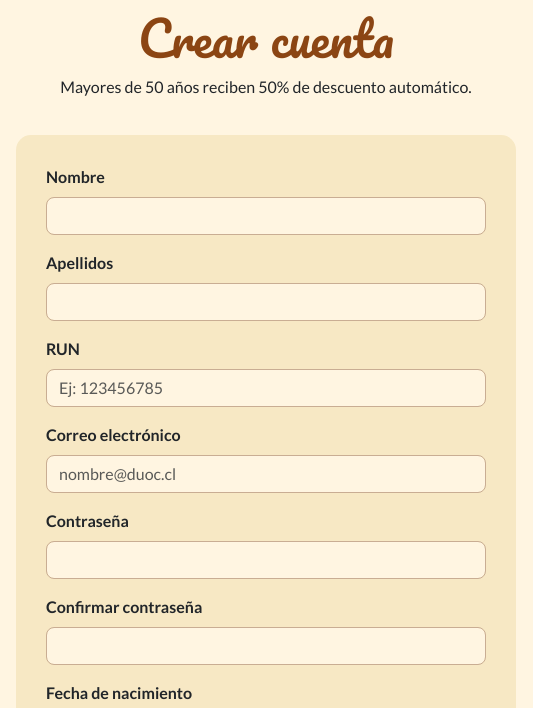
Test: Página Registro › avisa cuando las contraseñas no coinciden
Type "abcd" into the password field labelled "Contraseña". click: (266, 560)
box: 46,541 -> 486,579
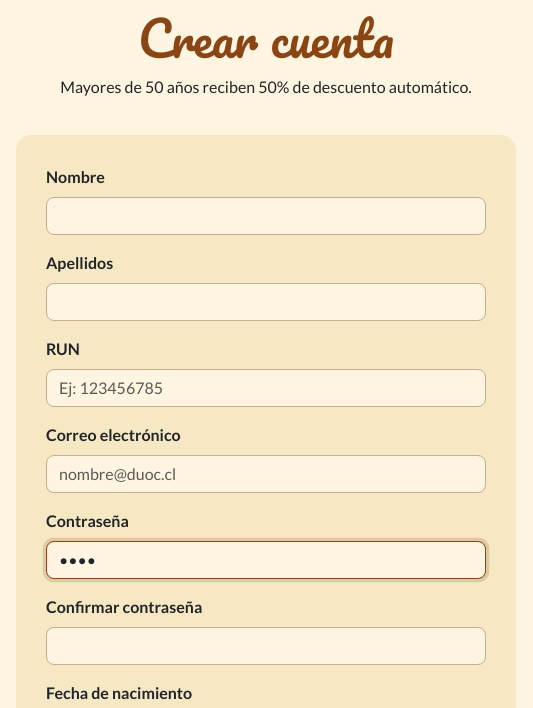
Type "abce" into the password field labelled "Confirmar contraseña". click: (266, 646)
box: 46,627 -> 486,665
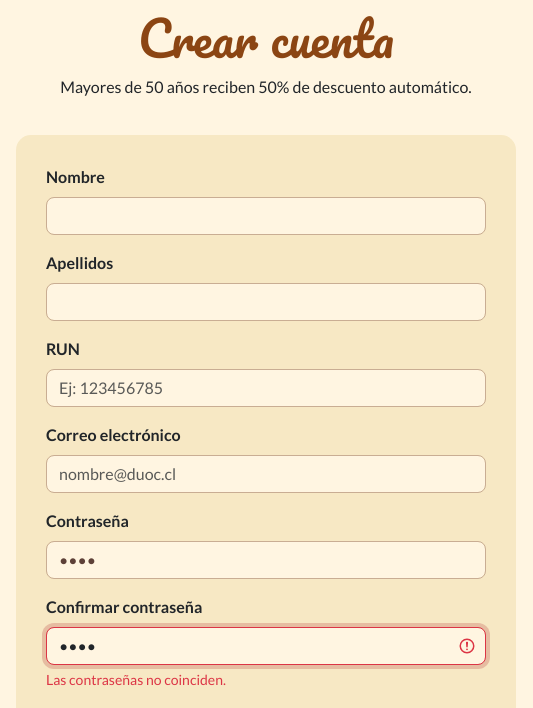
Check: the text "Las contraseñas no coinciden." is shown, box 46,671 -> 226,688
